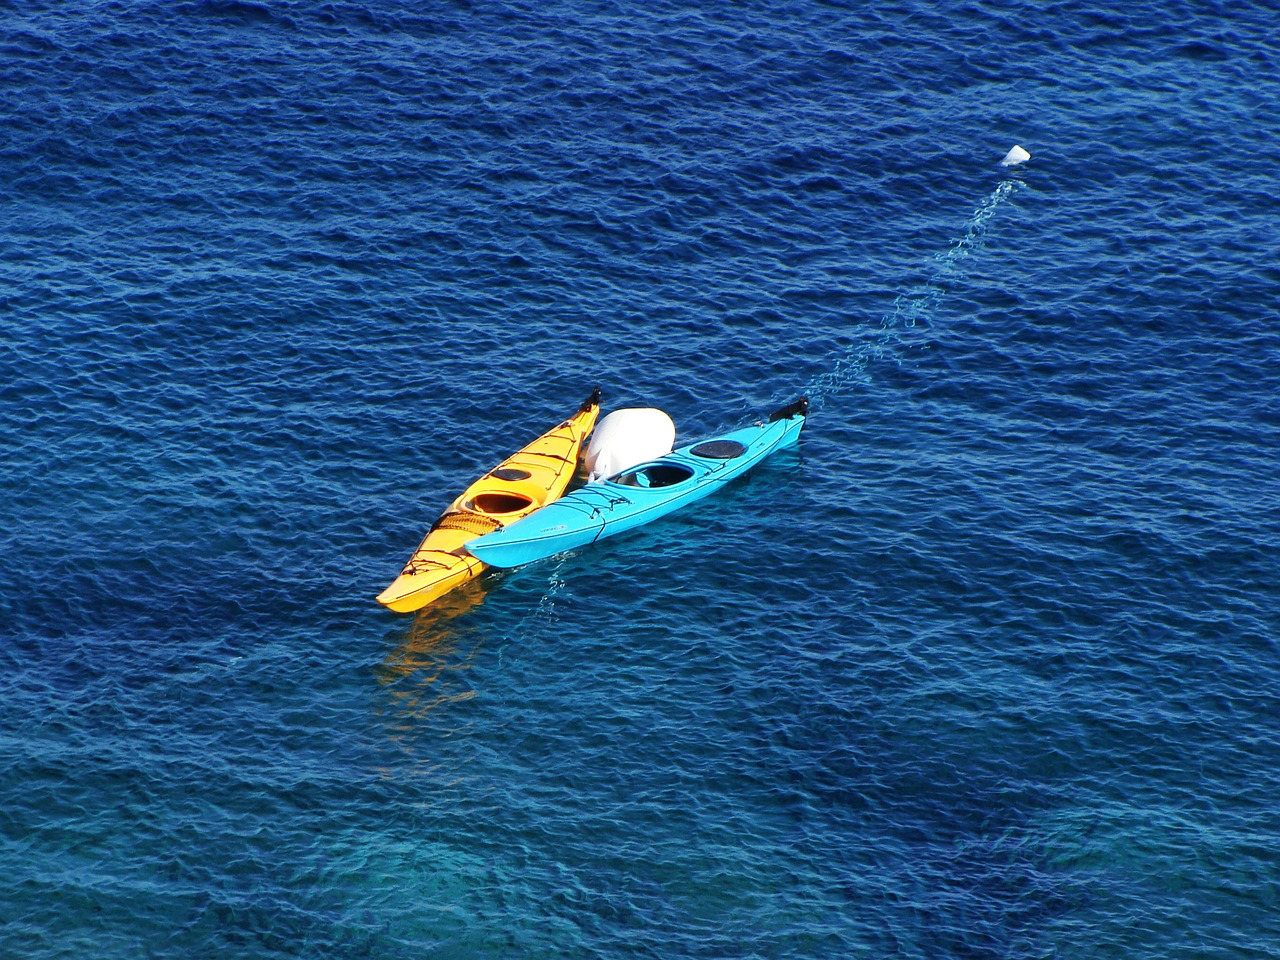kayak: (466, 394, 819, 576), (371, 387, 598, 618)
